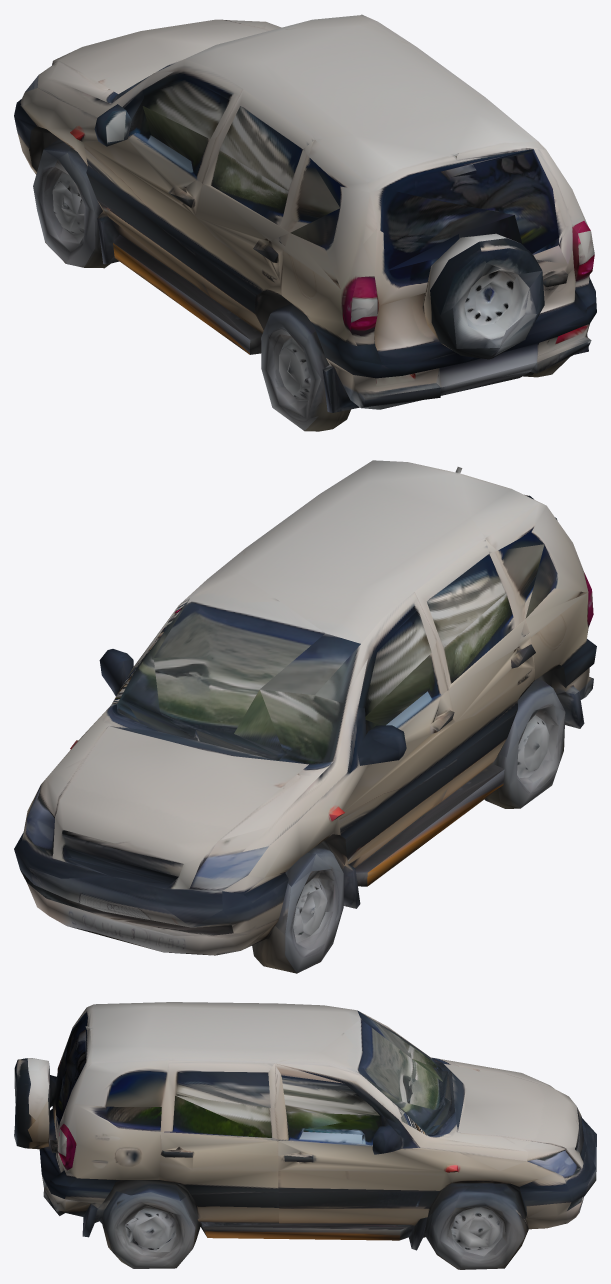
Rendered from rav.fbx.
3 renders of one model, top to bottom at view 1: azimuth 30°, elevation 25°; view 2: azimuth 150°, elevation 25°; view 3: azimuth 270°, elevation 25°, orthographic. The views are drawn at different scales.
Parts seen in each view (by area): view 1: texture_pbr_v128; view 2: texture_pbr_v128; view 3: texture_pbr_v128.
Part boxes in pixels (<box>): texture_pbr_v128: <box>14,14,596,431</box>; texture_pbr_v128: <box>14,460,596,973</box>; texture_pbr_v128: <box>14,1002,596,1269</box>.
Size of the model in its own units: 52.58 by 45.53 by 118.
1 material, 1 textured.
